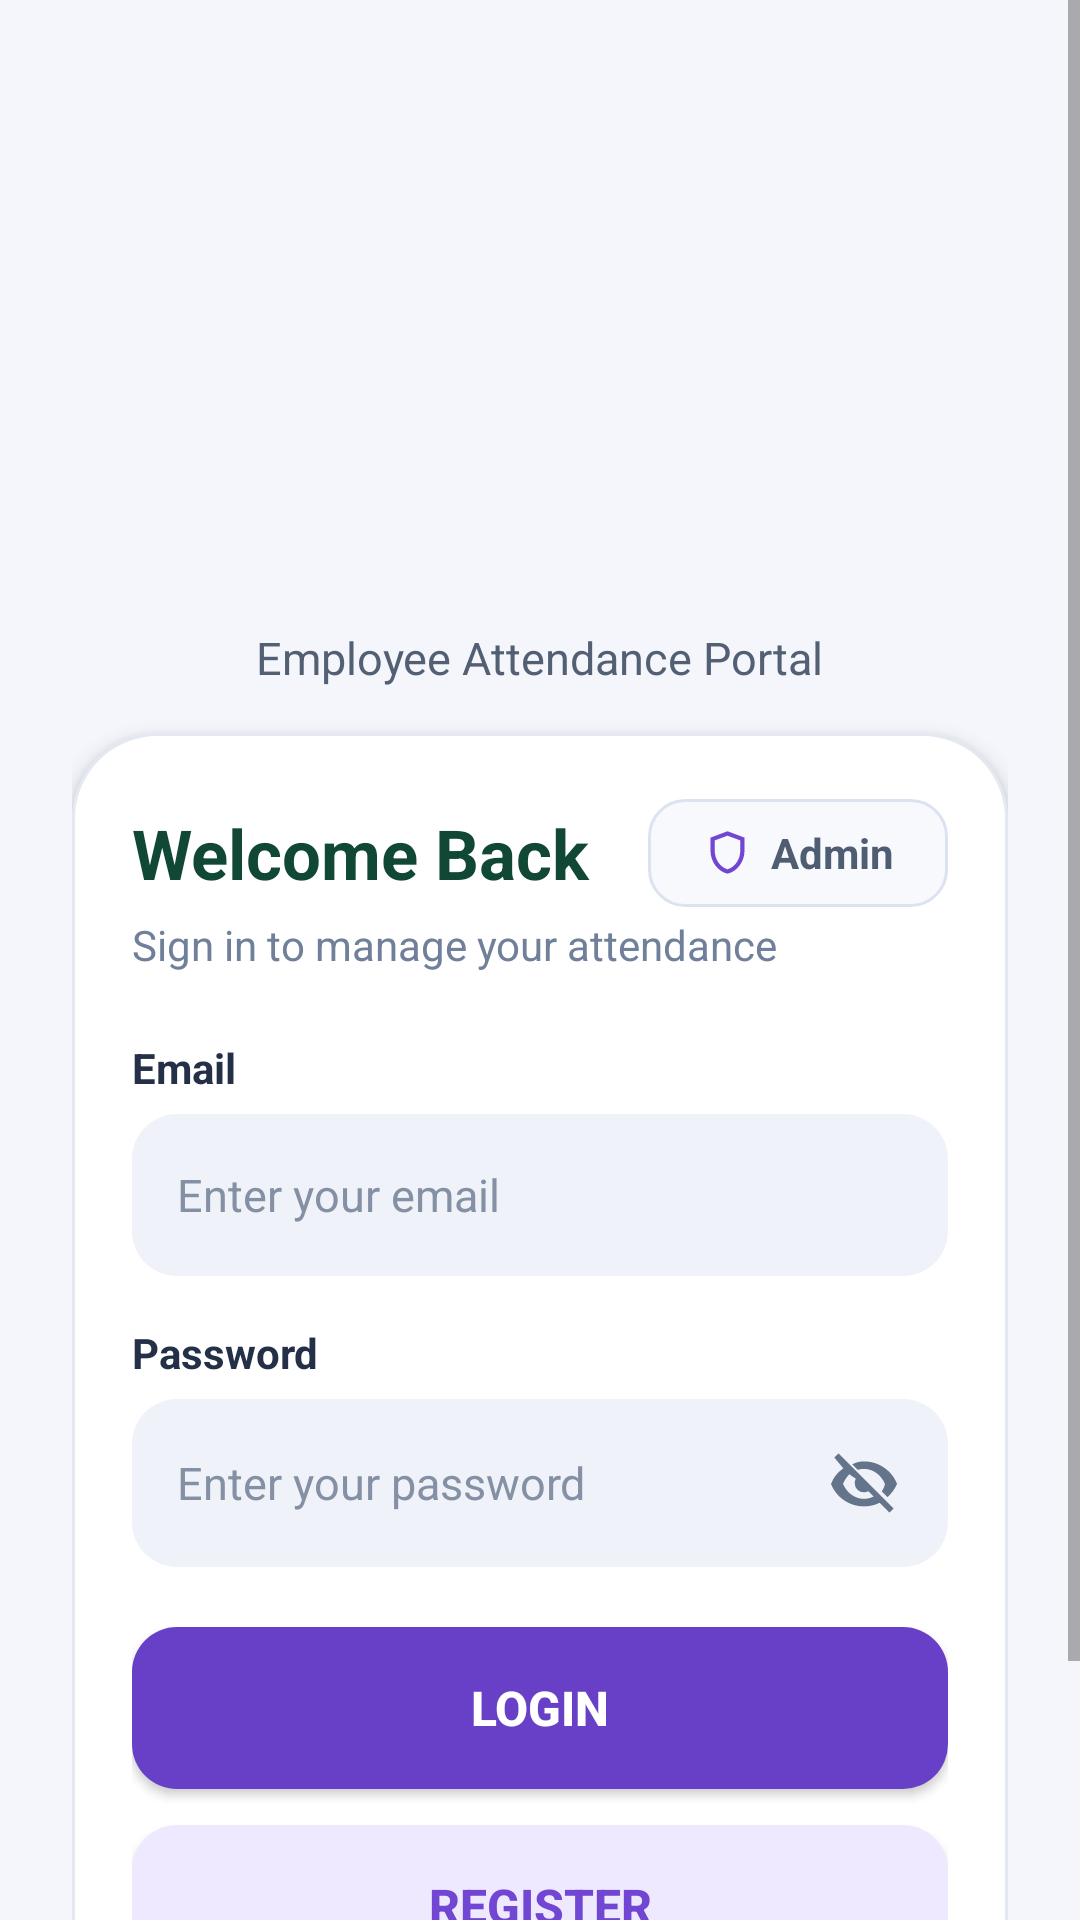

Icons on this 1080 x 1920 Android screen, each with its box as (x1, y1, x2, y2):
Show or hide password: (831, 1453, 897, 1513)
